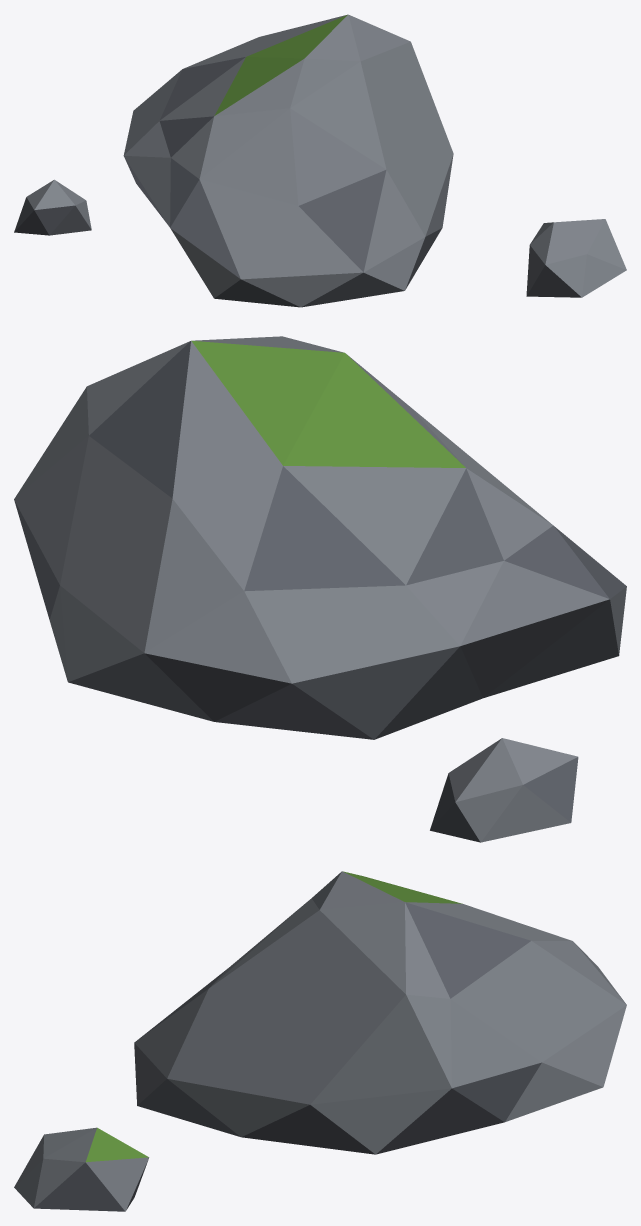
The model's file is rock_01.glb.
3 views of the same model, one above another, from view 1: azimuth 30°, elevation 25°; view 2: azimuth 150°, elevation 25°; view 3: azimuth 270°, elevation 25° (orthographic). The views are drawn at different scales.
Parts seen in each view (by area): view 1: rock_01; view 2: rock_01; view 3: rock_01.
Boxes of the visible parts, box(x1,y1,x2,y2) form: rock_01: box(14, 14, 626, 307); rock_01: box(14, 336, 626, 842); rock_01: box(14, 871, 626, 1211).
Size of the model in its own units: 2.53 by 1.15 by 2.58.
